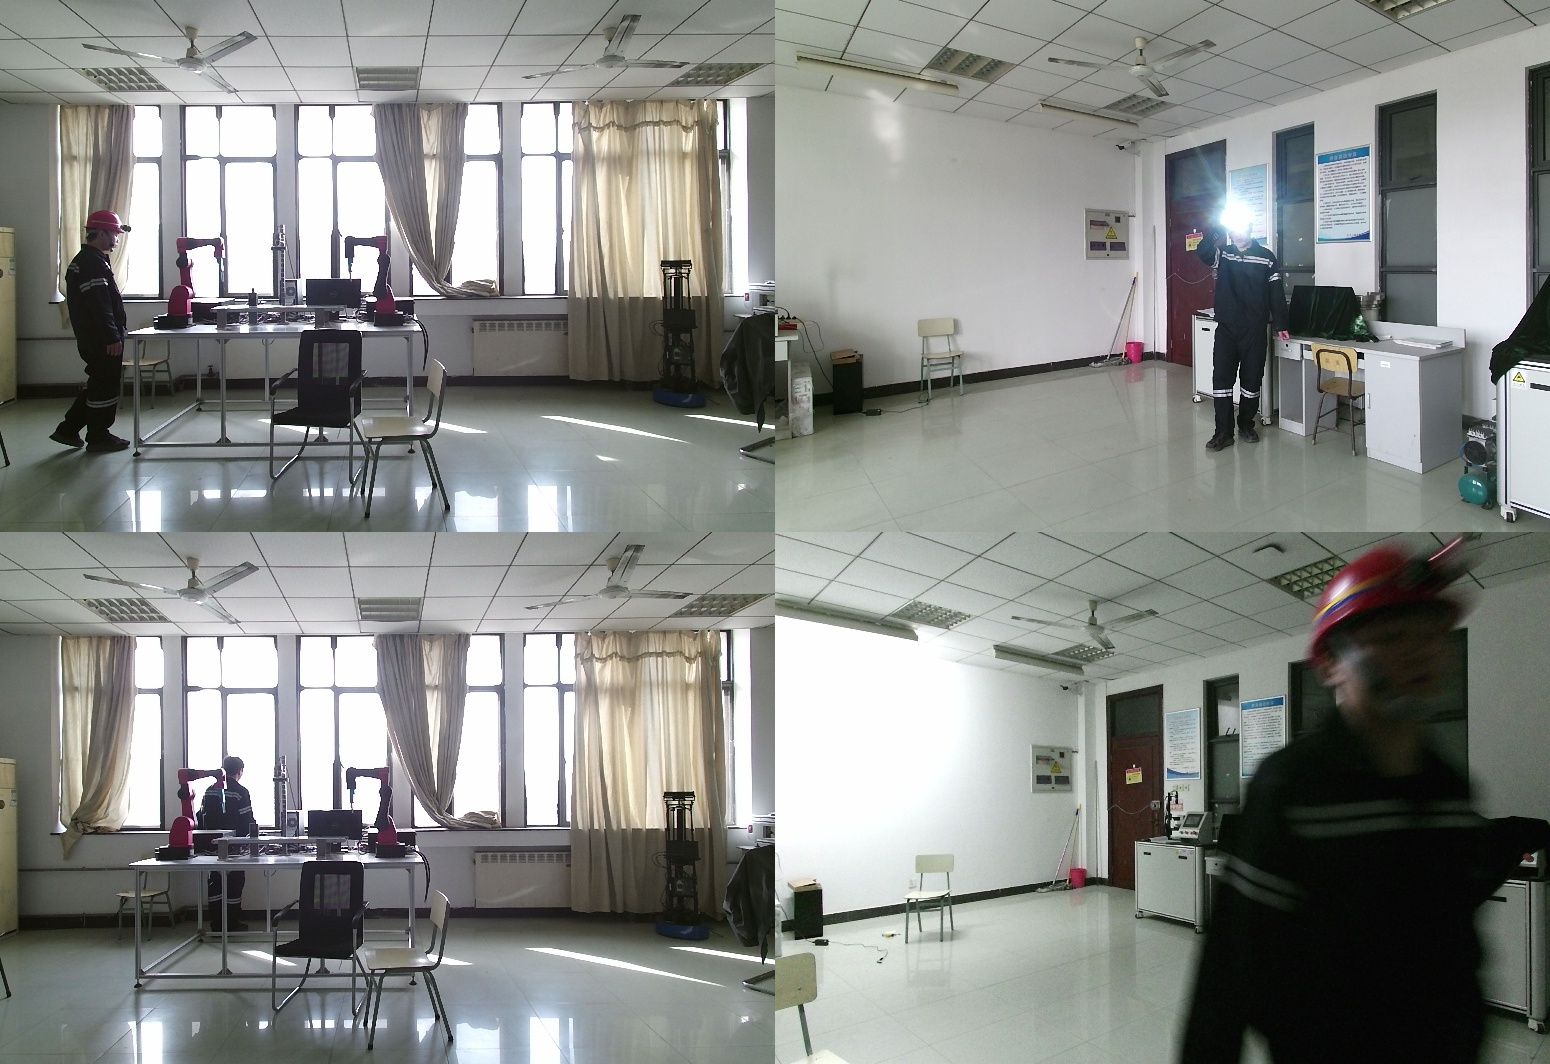person: (1175, 558, 1476, 1064), (1199, 210, 1298, 448), (49, 211, 138, 456), (198, 760, 254, 949)
